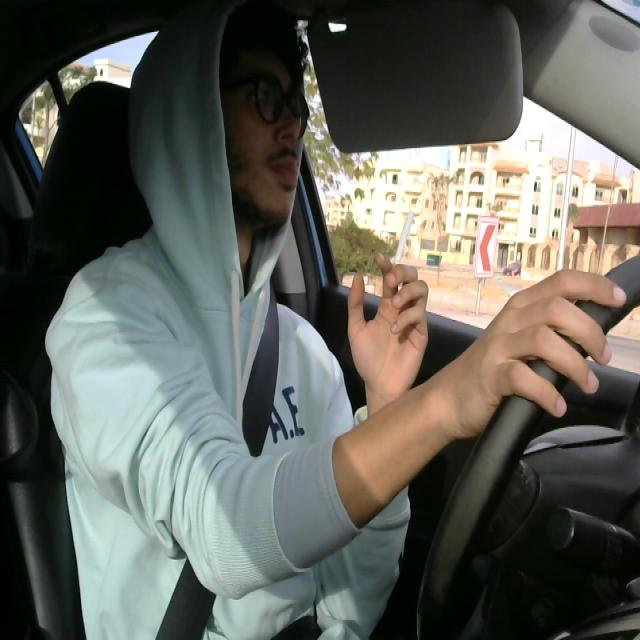smoking: (384, 207, 418, 290)
